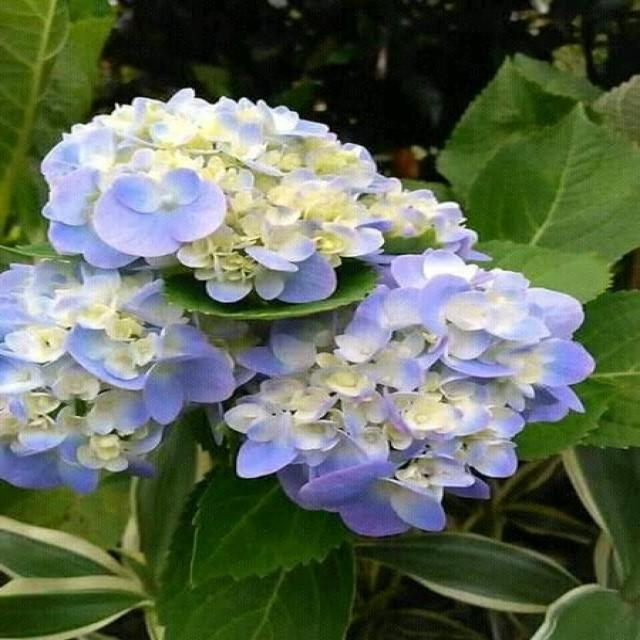Flower: (3, 94, 594, 543)
